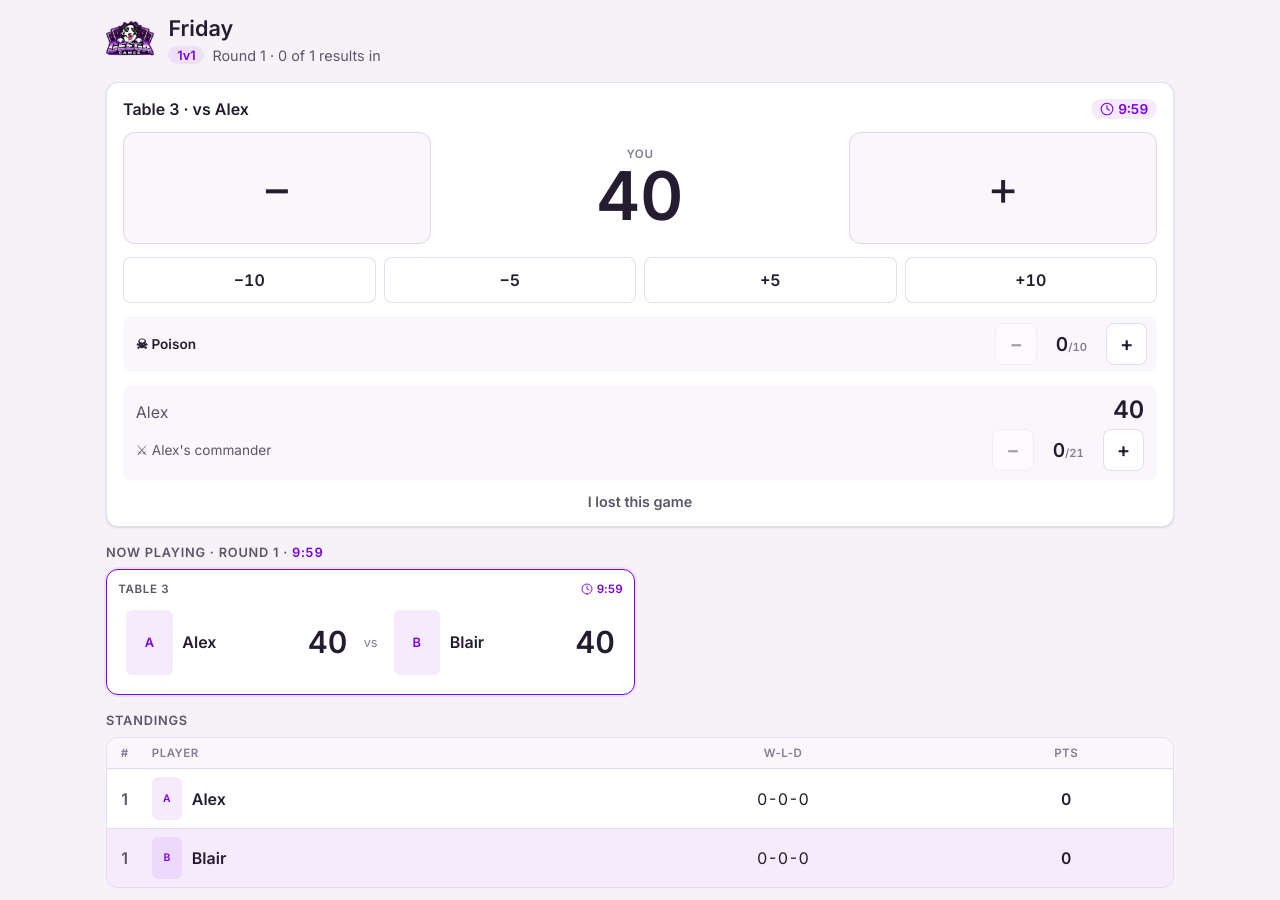
Test: player display page: life › sends life changes, and a refresh that left before the change doesn't undo it
Click the button named "Lose 1 life".
click(277, 188)  # box 123,132 -> 430,244
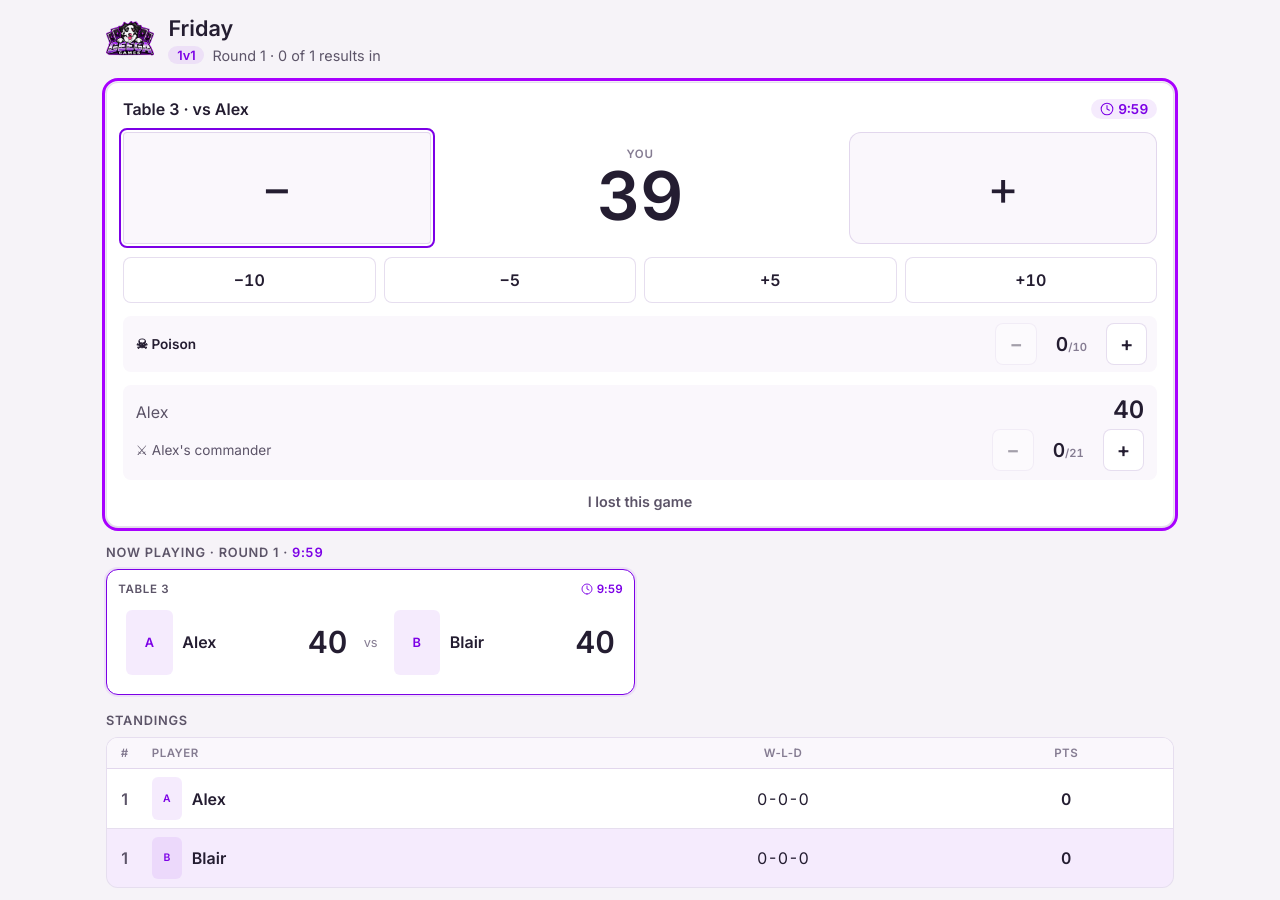
Click the button named "Lose 1 life".
click(277, 188)  # box 123,132 -> 430,244
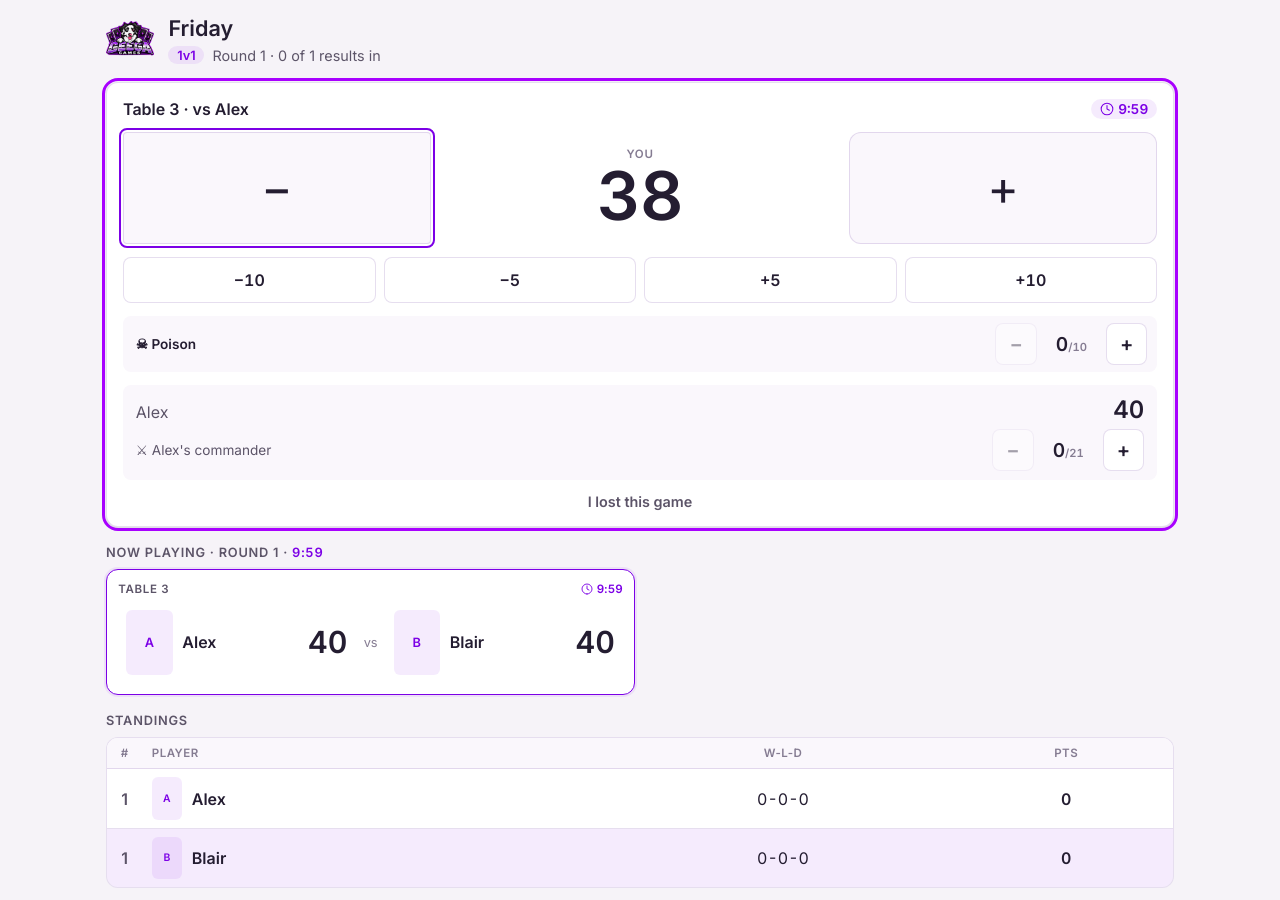
Click the button named "Lose 1 life".
click(277, 188)  # box 123,132 -> 430,244
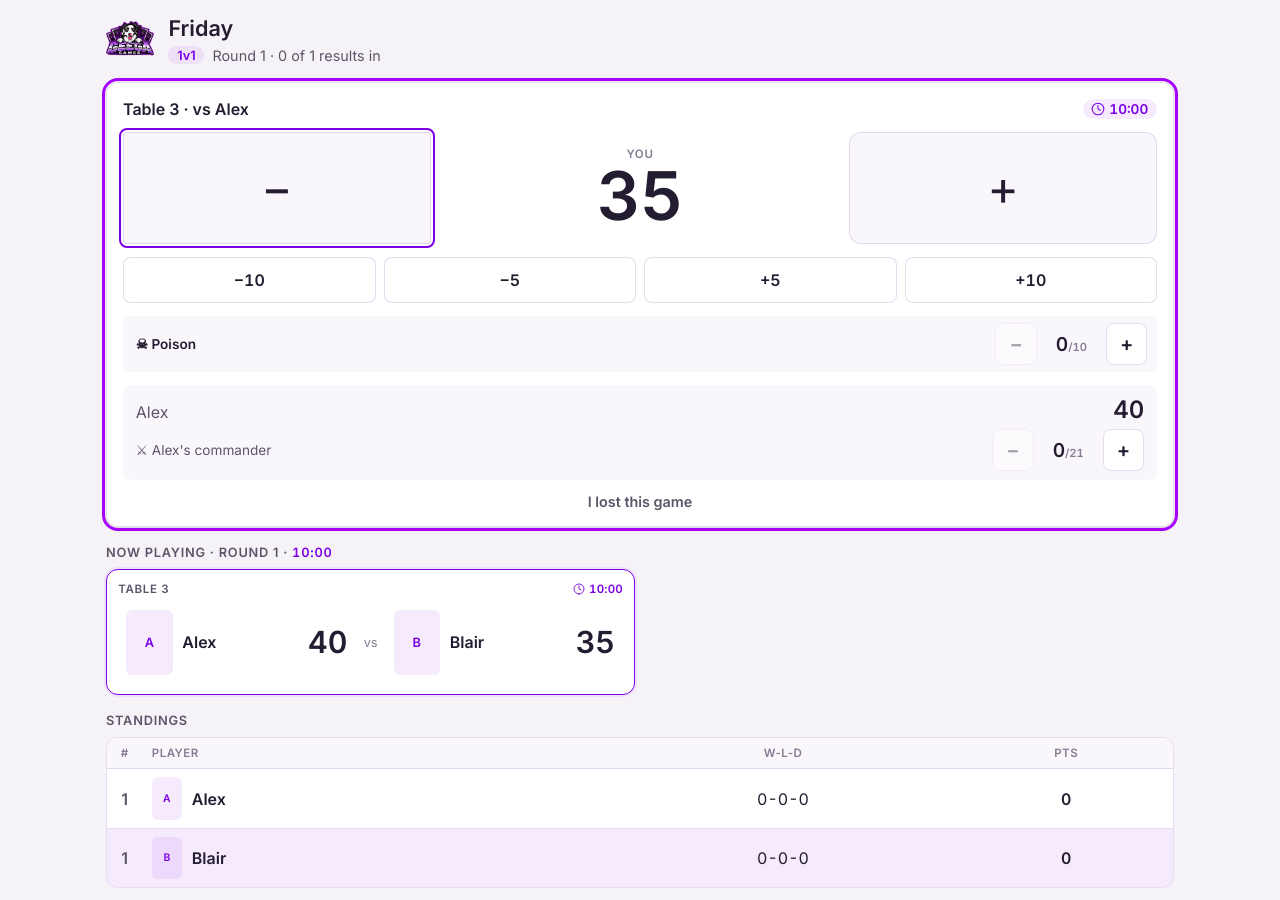
Now the text named "You: 35 life" is shown, box 596,162 -> 683,230
